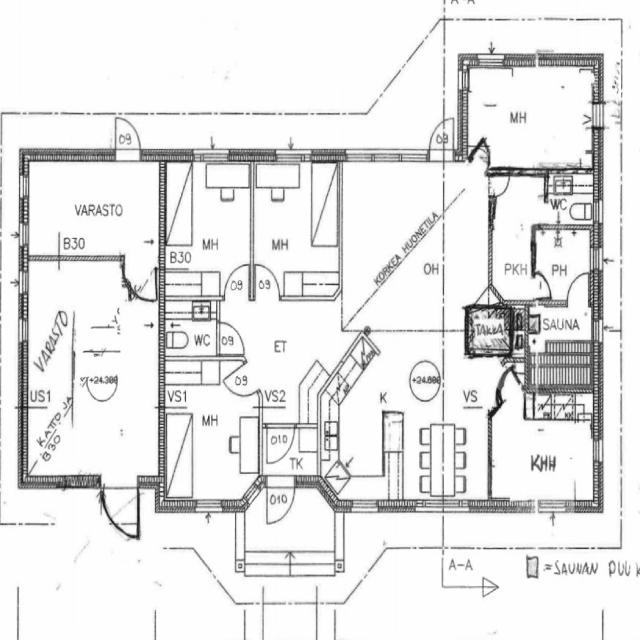door: (100, 482, 140, 544), (264, 475, 297, 529), (262, 421, 298, 468), (112, 115, 143, 161), (251, 260, 283, 303), (222, 260, 252, 302), (216, 319, 246, 358), (428, 117, 455, 156), (565, 270, 591, 306), (531, 271, 553, 301), (488, 172, 512, 198), (471, 140, 492, 168)
window: (344, 147, 426, 169), (191, 147, 233, 166), (272, 147, 312, 166), (347, 497, 383, 518), (438, 496, 472, 517), (192, 496, 227, 516), (536, 498, 569, 516), (477, 54, 505, 70), (16, 316, 30, 346), (17, 170, 30, 202), (591, 435, 604, 466), (18, 220, 31, 250), (18, 266, 30, 297), (591, 315, 603, 345), (593, 198, 604, 224)
zone: (161, 362, 260, 508), (464, 67, 596, 170), (23, 162, 163, 259), (162, 158, 253, 300), (250, 158, 340, 298), (485, 413, 598, 505), (320, 401, 405, 496), (525, 303, 596, 386), (157, 543, 215, 640), (532, 225, 592, 303), (22, 404, 74, 475), (163, 301, 219, 359), (467, 306, 513, 355), (262, 602, 317, 640)
